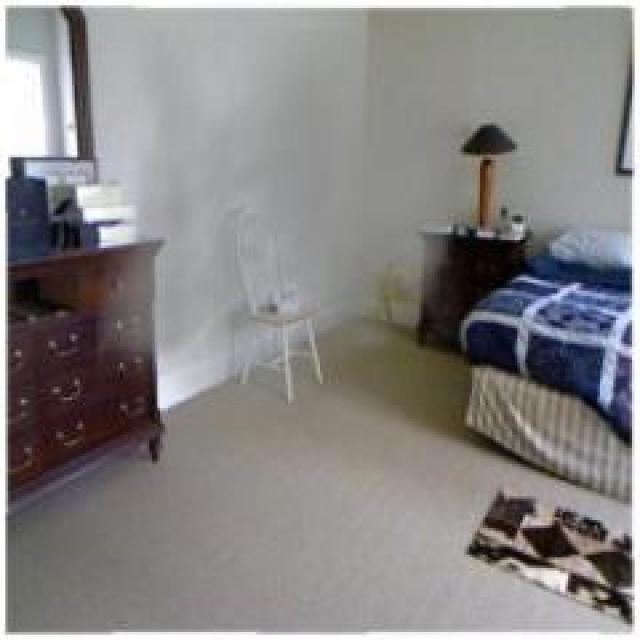Smoke: (107, 25, 465, 422)
